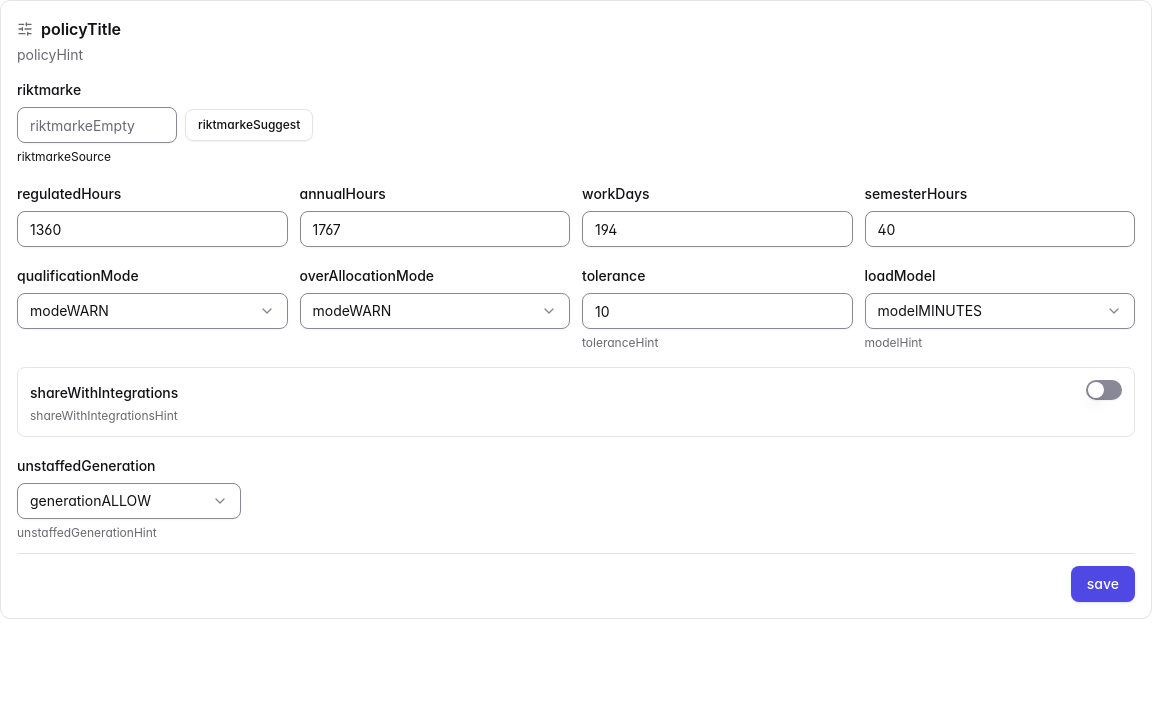
Test case: StaffingPolicyCard › refuses reglerad arbetstid above the annual hours, naming both
Replace the text in the number field labelled "regulatedHours" with "1800". click: (152, 229)
box: [17,211,288,247]
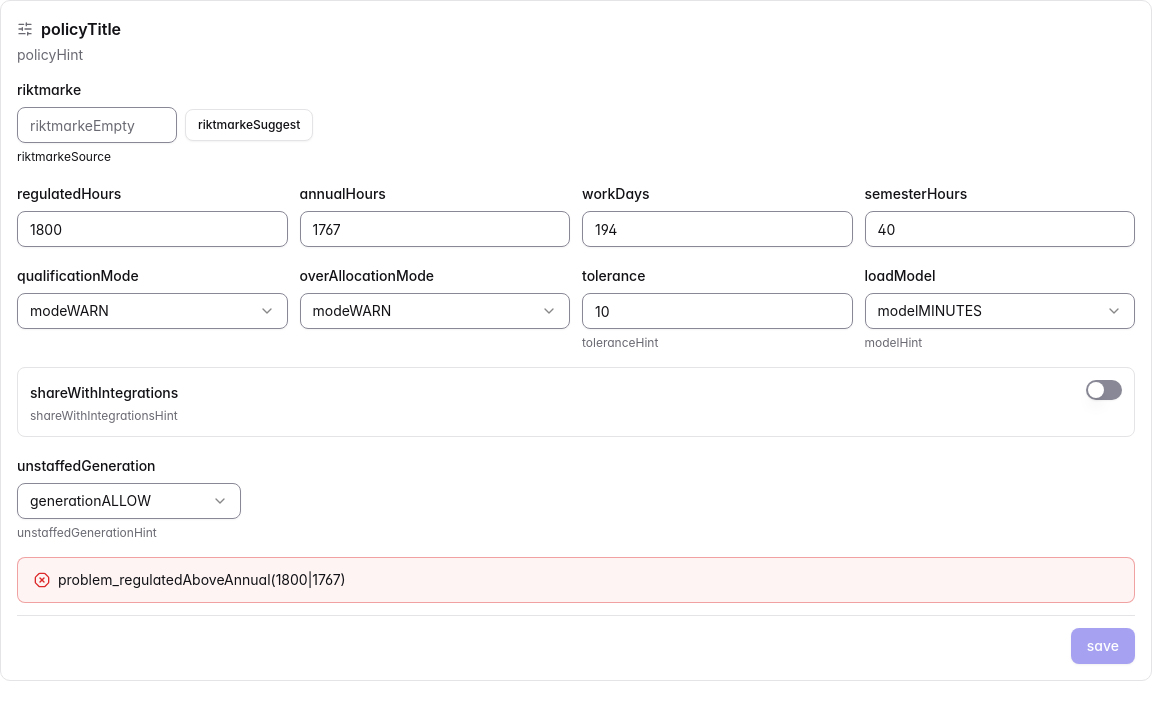
Expected: the message reads "problem_regulatedAboveAnnual(1800|1767)", [58,571,346,588]
Expected: the button "save" is disabled, [1071,628,1135,664]
